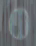Two way: (5, 4, 35, 44)
